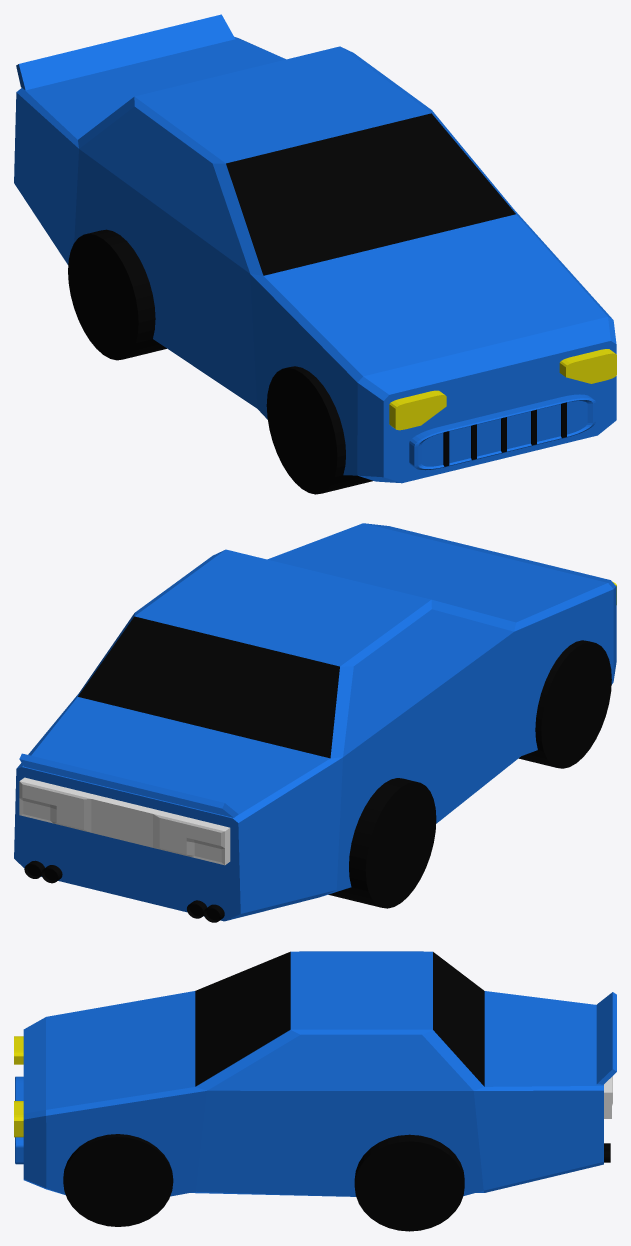
Rendered from BlueCar.glb.
3 renders of one model, top to bottom at view 1: azimuth 30°, elevation 25°; view 2: azimuth 150°, elevation 25°; view 3: azimuth 270°, elevation 25°, orthographic. The views are drawn at different scales.
Parts seen in each view (by area): view 1: Car_Red; view 2: Car_Red; view 3: Car_Red.
Part boxes in pixels (<box>): Car_Red: <box>14,14,616,494</box>; Car_Red: <box>14,523,616,922</box>; Car_Red: <box>14,951,616,1231</box>.
Bounding box in the file's own units: 3.28 × 2.48 × 7.38.
